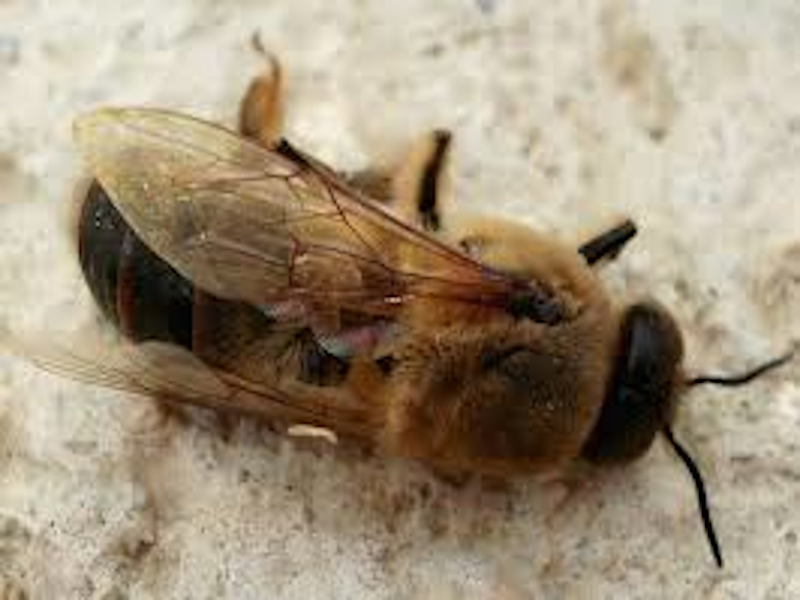abeja: (35, 40, 792, 575)
